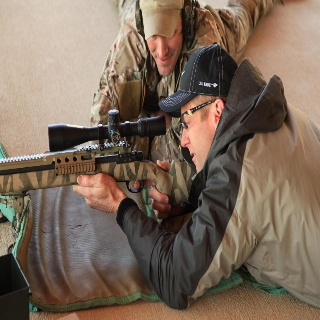rifle: (1, 108, 195, 205)
